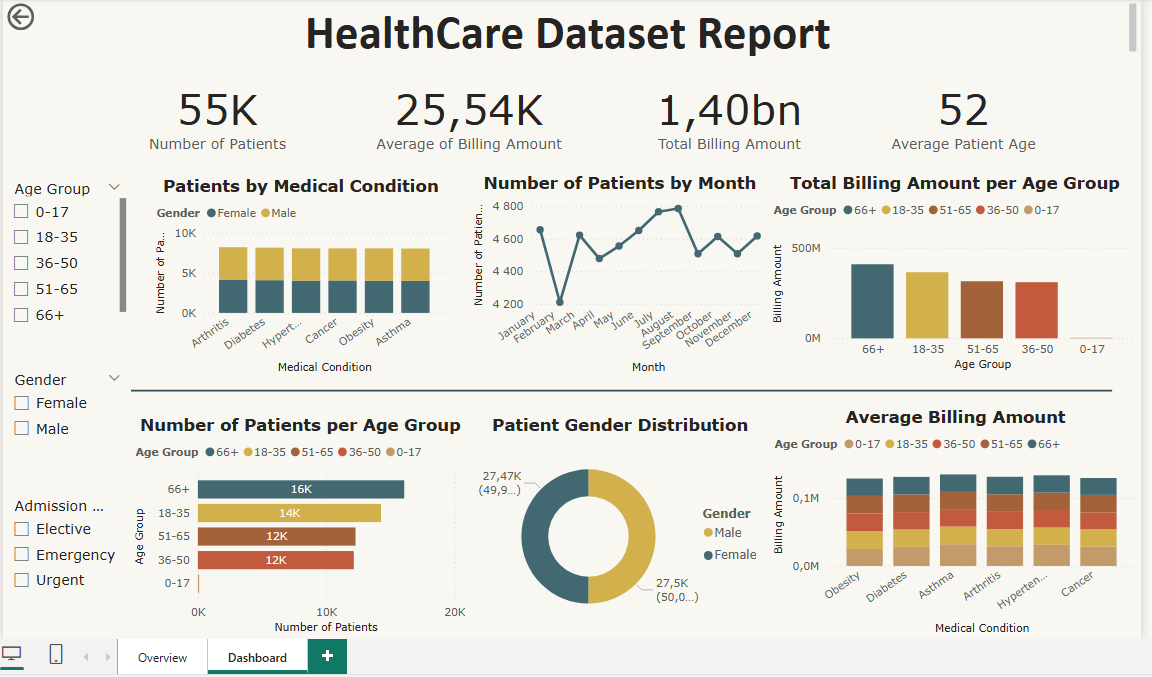

The dashboard page shown, as its layout file describes it:
{"tool":"powerbi","page":{"name":"Dashboard","canvas":[1280,720],"ordinal":1},"visuals":[{"type":"card","fields":{"Values":["cleaned_healthcare_dataset.Name"]},"box":[144,82.1,194.6,100.1],"z":0},{"type":"card","fields":{"Values":["cleaned_healthcare_dataset.Billing Amount"]},"box":[392.6,82.1,263.2,100.1],"z":1000},{"type":"card","fields":{"Values":["cleaned_healthcare_dataset.Billing Amount"]},"box":[694.1,82.1,246.4,100.1],"z":2000},{"type":"card","fields":{"Values":["cleaned_healthcare_dataset.Age"]},"box":[974.2,82.1,212.6,100.1],"z":3000},{"type":"textbox","box":[0,0,1280,69.1],"z":4000},{"type":"slicer","fields":{"Values":["cleaned_healthcare_dataset.Age Group"]},"box":[0,197.7,143.9,170.8],"z":5000},{"type":"slicer","fields":{"Values":["cleaned_healthcare_dataset.Gender"]},"box":[0,413,143.9,108.8],"z":6000},{"type":"slicer","fields":{"Values":["cleaned_healthcare_dataset.Admission Type"]},"box":[0,554.6,139.2,120.5],"z":7000},{"type":"lineChart","fields":{"Category":["cleaned_healthcare_dataset.Admission Date.Variation.Date Hierarchy.Month"],"Y":["cleaned_healthcare_dataset.Name"]},"box":[525.3,194.2,337,231.7],"z":8000},{"type":"columnChart","title":"Total Billing Amount per Age Group","fields":{"Category":["cleaned_healthcare_dataset.Age Group"],"Y":["cleaned_healthcare_dataset.Billing Amount"],"Series":["cleaned_healthcare_dataset.Age Group"]},"box":[862.3,194.2,417.7,228.2],"z":9000},{"type":"columnChart","title":"Patients by Medical Condition","fields":{"Category":["cleaned_healthcare_dataset.Medical Condition"],"Series":["cleaned_healthcare_dataset.Gender"],"Y":["cleaned_healthcare_dataset.Name"]},"box":[167.3,197.7,334.6,228.2],"z":10000},{"type":"donutChart","title":"Patient Gender Distribution","fields":{"Category":["cleaned_healthcare_dataset.Gender"],"Y":["cleaned_healthcare_dataset.Name"]},"box":[525.2,467.2,337.6,252.5],"z":11000},{"type":"columnChart","title":"Average Billing Amount","fields":{"Category":["cleaned_healthcare_dataset.Medical Condition"],"Y":["cleaned_healthcare_dataset.Billing Amount"],"Series":["cleaned_healthcare_dataset.Age Group"]},"box":[862.8,457.7,417.2,261.9],"z":12000},{"type":"shape","box":[110.7,397,1140.9,86.4],"z":14000},{"type":"barChart","title":"Number of Patients per Age Group","fields":{"Category":["cleaned_healthcare_dataset.Age Group"],"Y":["cleaned_healthcare_dataset.Name"],"Series":["cleaned_healthcare_dataset.Age Group"]},"box":[144.5,467.2,380.8,252.5],"z":14500},{"type":"actionButton","box":[0,0,100,40],"z":15000}]}

Visuals, with their boxes on the page's 1280x720 design canvas (x1, y1, x2, y2). These are canvas units, not pixel positions in the 1152x677 screenshot, which may show the page scaled, cropped or inside an application window:
card - cleaned_healthcare_dataset.Name: left=144, top=82, right=339, bottom=182
card - cleaned_healthcare_dataset.Billing Amount: left=393, top=82, right=656, bottom=182
card - cleaned_healthcare_dataset.Billing Amount: left=694, top=82, right=940, bottom=182
card - cleaned_healthcare_dataset.Age: left=974, top=82, right=1187, bottom=182
textbox: left=0, top=0, right=1280, bottom=69
slicer - cleaned_healthcare_dataset.Age Group: left=0, top=198, right=144, bottom=368
slicer - cleaned_healthcare_dataset.Gender: left=0, top=413, right=144, bottom=522
slicer - cleaned_healthcare_dataset.Admission Type: left=0, top=555, right=139, bottom=675
lineChart - cleaned_healthcare_dataset.Admission Date.Variation.Date Hierarchy.Month x cleaned_healthcare_dataset.Name: left=525, top=194, right=862, bottom=426
"Total Billing Amount per Age Group" columnChart: left=862, top=194, right=1280, bottom=422
"Patients by Medical Condition" columnChart: left=167, top=198, right=502, bottom=426
"Patient Gender Distribution" donutChart: left=525, top=467, right=863, bottom=720
"Average Billing Amount" columnChart: left=863, top=458, right=1280, bottom=720
shape: left=111, top=397, right=1252, bottom=483
"Number of Patients per Age Group" barChart: left=144, top=467, right=525, bottom=720
actionButton: left=0, top=0, right=100, bottom=40
